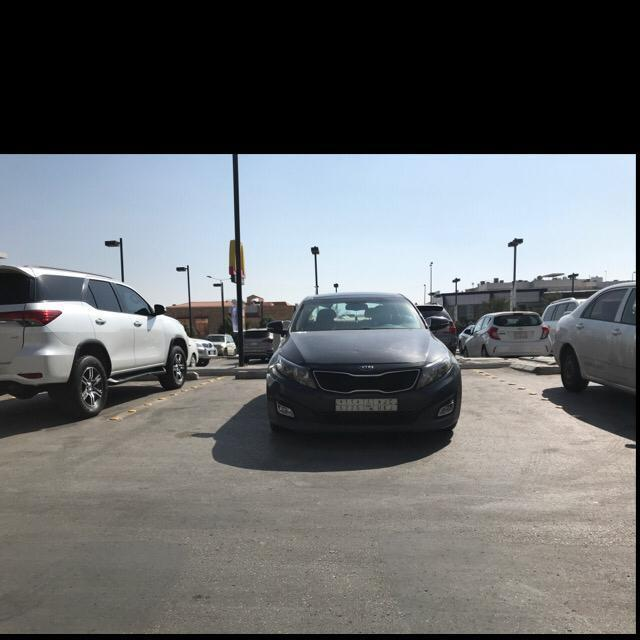license_plate: (333, 397, 397, 411), (515, 332, 528, 338)
